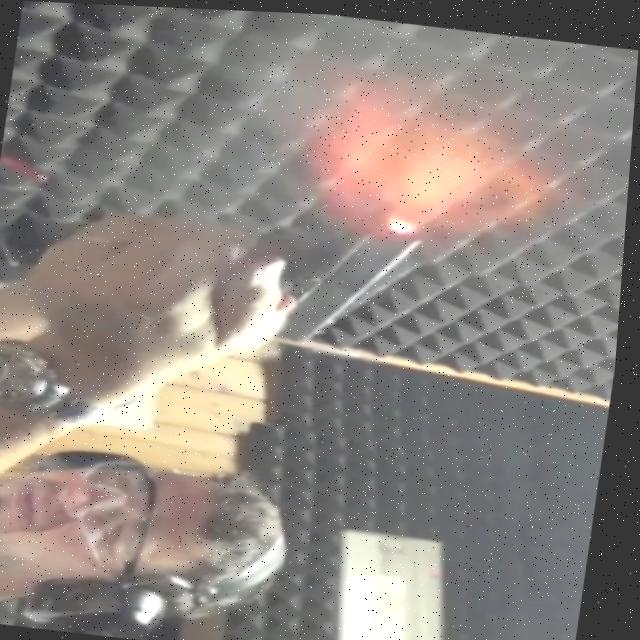pistol: (270, 201, 432, 352)
